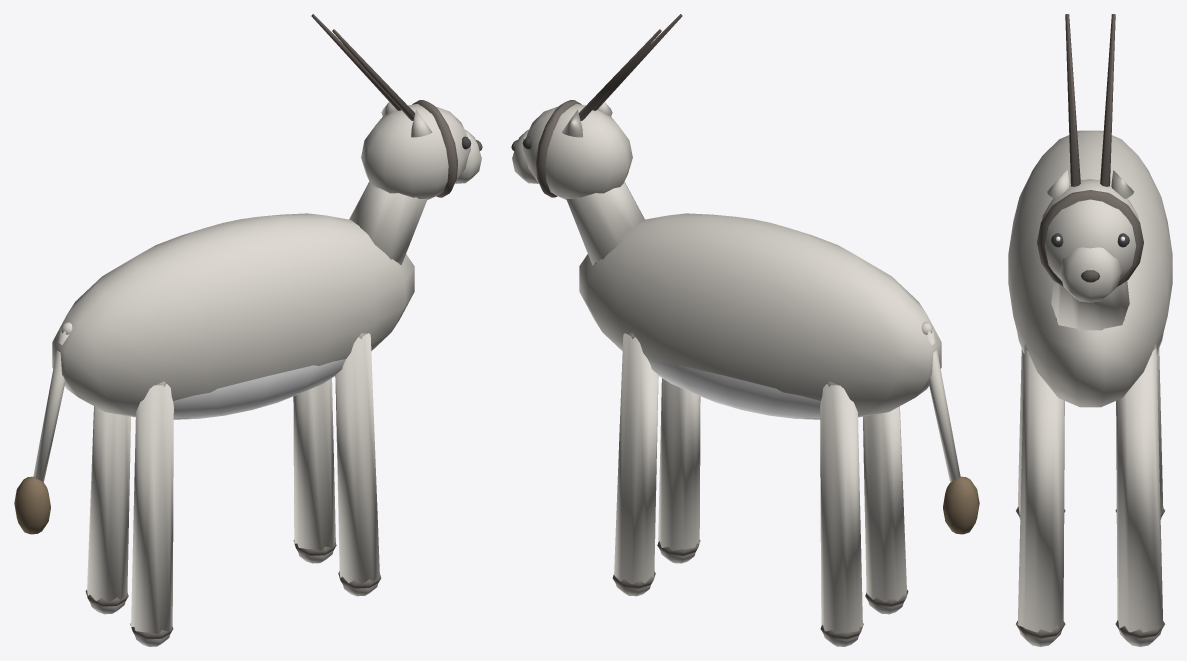
The model's file is oryx.glb.
The picture shows the model from 3 angles, left to right: view 1: azimuth 30°, elevation 25°; view 2: azimuth 150°, elevation 25°; view 3: azimuth 270°, elevation 25°; orthographic projection. The views are drawn at different scales.
Visible parts, largest first — view 1: e, cone, e.024; view 2: e, cone, e.024; view 3: e, cone.
Part boxes in pixels (bbox=[...]): e: bbox=[52, 182, 427, 646]; cone: bbox=[311, 14, 482, 199]; e.024: bbox=[14, 322, 72, 534]; e: bbox=[566, 182, 941, 646]; cone: bbox=[511, 14, 682, 199]; e.024: bbox=[921, 322, 979, 534]; e: bbox=[1008, 130, 1172, 646]; cone: bbox=[1037, 14, 1143, 302].
Size of the model in its own units: 1.3 by 1.49 by 0.3563.
